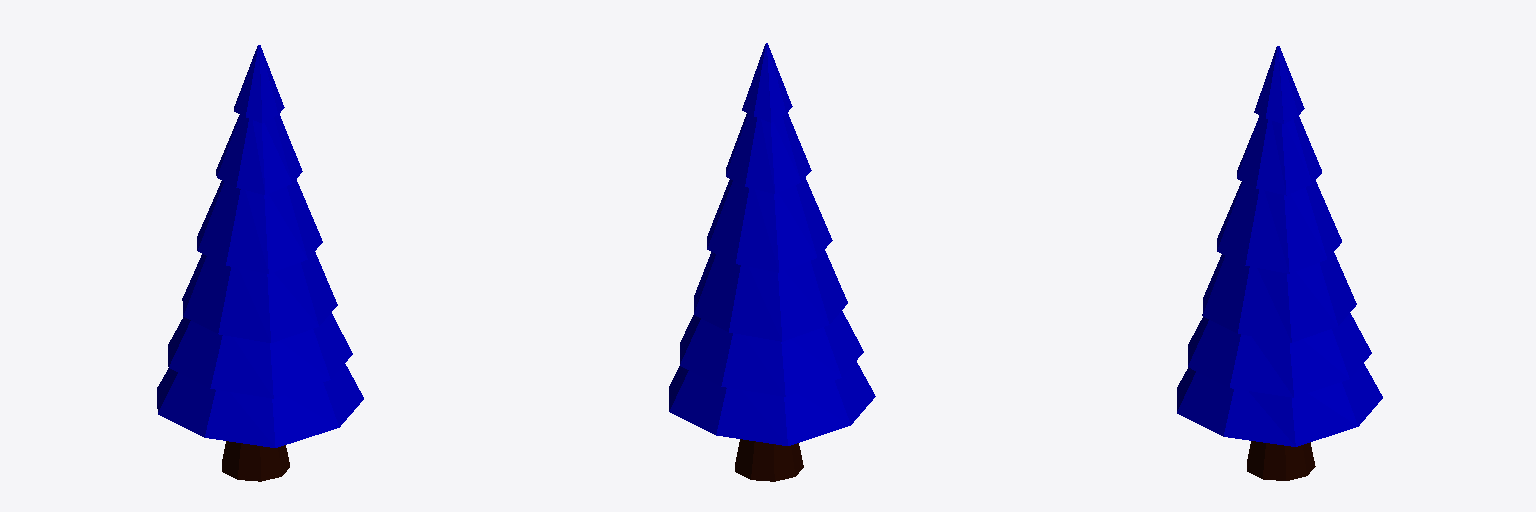
The model's file is lowpolytree.obj.
3 renders of one model, left to right at view 1: azimuth 30°, elevation 25°; view 2: azimuth 150°, elevation 25°; view 3: azimuth 270°, elevation 25°, orthographic.
Visible parts, largest first — view 1: Cylinder; view 2: Cylinder; view 3: Cylinder.
Part boxes in pixels (x1,y1,x2,y2): Cylinder: (157, 45, 363, 481); Cylinder: (669, 43, 875, 481); Cylinder: (1177, 46, 1382, 480).
Size of the model in its own units: 2.31 by 5.12 by 2.28.